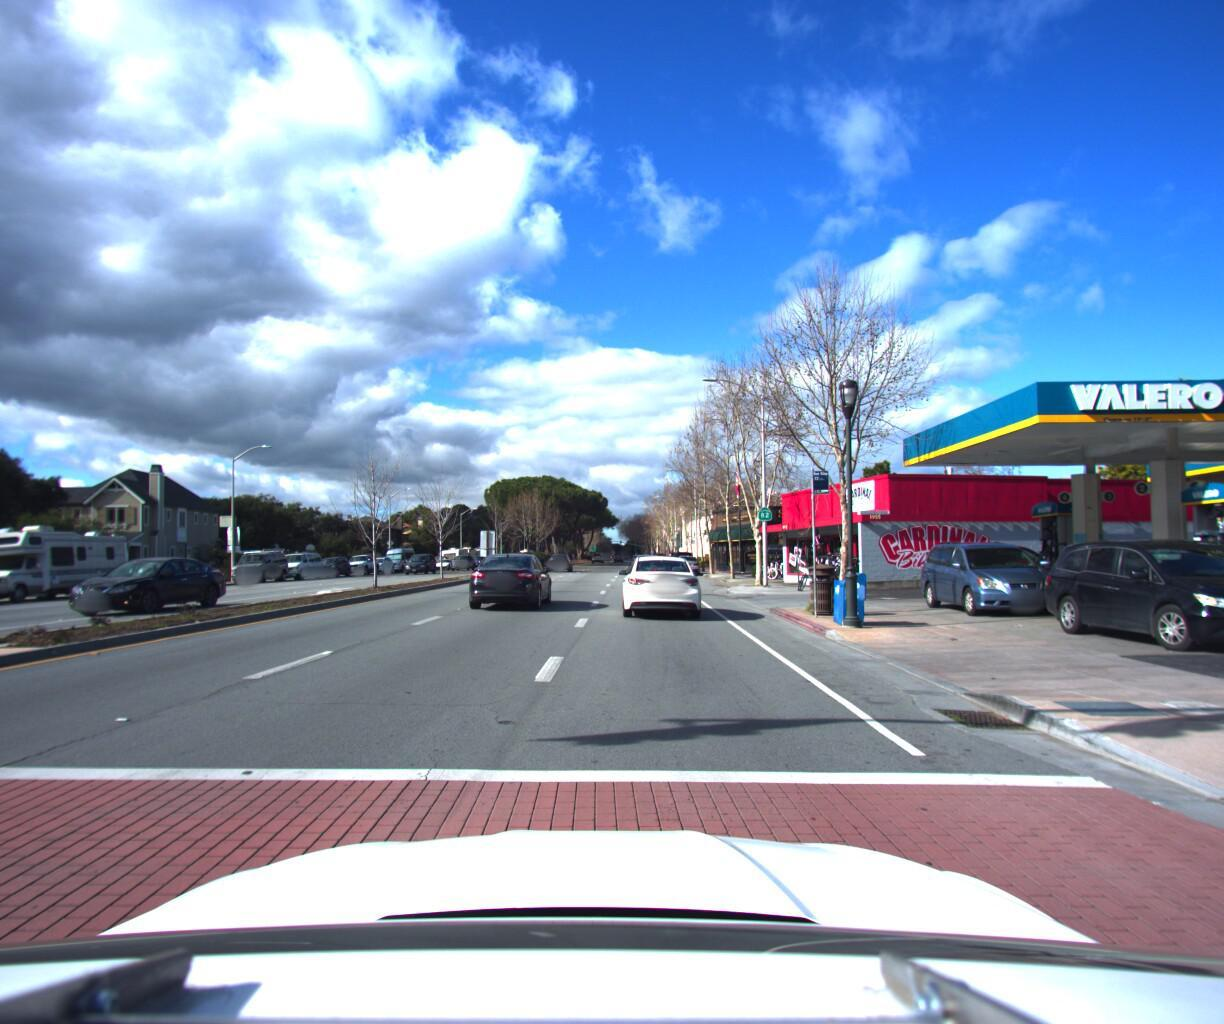bicycle: (827, 544, 861, 576), (800, 554, 833, 586)
car: (1030, 528, 1224, 653), (909, 533, 1069, 616), (57, 551, 232, 612), (622, 547, 702, 618), (465, 542, 555, 605), (230, 541, 294, 577), (273, 543, 330, 576), (344, 547, 384, 571), (315, 550, 358, 573), (401, 547, 436, 570), (367, 549, 400, 569), (675, 548, 703, 570), (546, 545, 572, 564)
